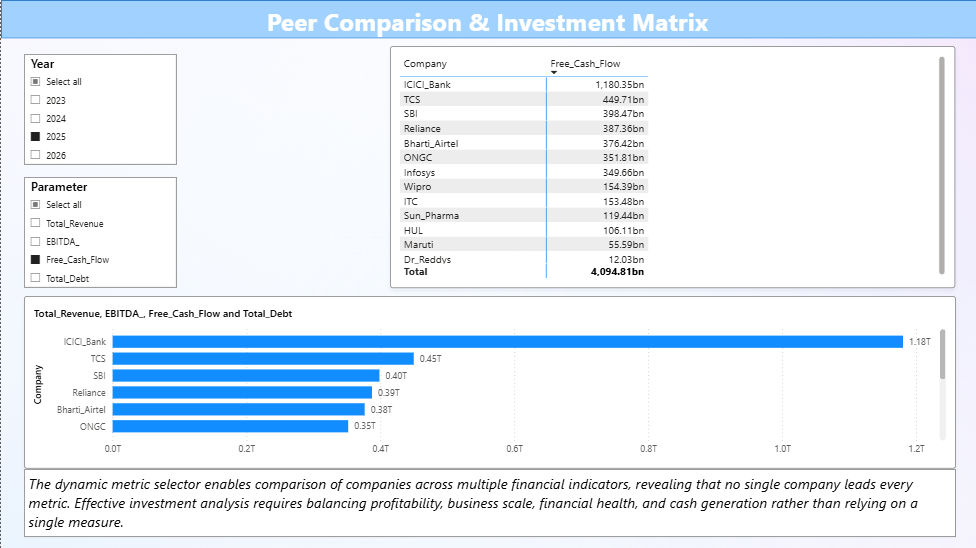

This screenshot's page, from the dashboard's own definition file:
{"tool":"powerbi","page":{"name":"Page 6","canvas":[1280,720],"ordinal":5},"visuals":[{"type":"pivotTable","fields":{"Values":["Cash_Flow.Free_Cash_Flow"],"Rows":["Dim_Company.Company"]},"box":[509.8,60.5,740.2,316.8],"z":0},{"type":"slicer","fields":{"Values":["Parameter.Parameter"]},"box":[30.2,231.8,200.2,145.4],"z":1000},{"type":"clusteredBarChart","title":"Total_Revenue, EBITDA_, Free_Cash_Flow and Total_Debt","fields":{"Y":["Cash_Flow.Free_Cash_Flow"],"Category":["Dim_Company.Company"]},"box":[30.2,387.4,1219.7,226.1],"z":2000},{"type":"slicer","fields":{"Values":["Dim_Year.Year"]},"box":[30.2,70.6,200.2,145.4],"z":3000},{"type":"shape","box":[0,0,1280.2,50.4],"z":4000},{"type":"textbox","box":[342.7,0,596.2,54.7],"z":5000},{"type":"textbox","box":[30.2,613.4,1219.7,89.3],"z":6000}]}

Visuals, with their boxes in screenshot pixels (x1, y1, x2, y2), scaled from the page's 1280x720 canvas onto the 976x548 screenshot:
pivotTable - Cash_Flow.Free_Cash_Flow x Dim_Company.Company: pyautogui.locateOnScreen(389, 46, 953, 287)
slicer - Parameter.Parameter: pyautogui.locateOnScreen(23, 176, 176, 287)
"Total_Revenue, EBITDA_, Free_Cash_Flow and Total_Debt" clusteredBarChart: pyautogui.locateOnScreen(23, 295, 953, 467)
slicer - Dim_Year.Year: pyautogui.locateOnScreen(23, 54, 176, 164)
shape: pyautogui.locateOnScreen(0, 0, 975, 38)
textbox: pyautogui.locateOnScreen(261, 0, 716, 42)
textbox: pyautogui.locateOnScreen(23, 467, 953, 535)
